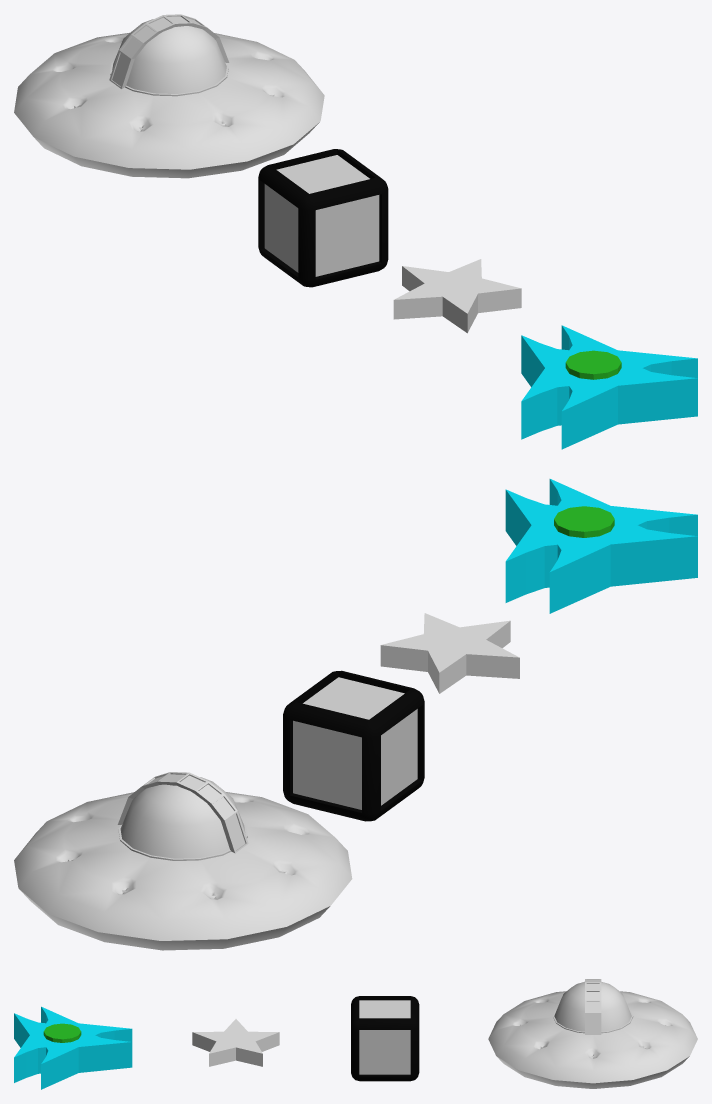
File: Trinkets.fbx
The picture shows the model from 3 angles, top to bottom: view 1: azimuth 30°, elevation 25°; view 2: azimuth 150°, elevation 25°; view 3: azimuth 270°, elevation 25°; orthographic projection. The views are drawn at different scales.
Visible parts, largest first — view 1: Toy NLO, Toy cube, Toy spiner, Toy zvezda; view 2: Toy NLO, Toy cube, Toy spiner, Toy zvezda; view 3: Toy NLO, Toy spiner, Toy cube, Toy zvezda.
Part boxes in pixels (x1,y1,x2,y2): Toy NLO: (14,14,324,178); Toy cube: (258,149,388,287); Toy spiner: (521,325,697,449); Toy zvezda: (393,259,521,333); Toy NLO: (14,772,352,950); Toy cube: (283,670,424,821); Toy spiner: (505,479,697,613); Toy zvezda: (380,613,519,693); Toy NLO: (488,979,697,1088); Toy spiner: (14,1006,132,1089); Toy cube: (351,996,419,1081); Toy zvezda: (192,1019,279,1066).
Bounding box in the file's own units: 46 × 21.21 × 150.
